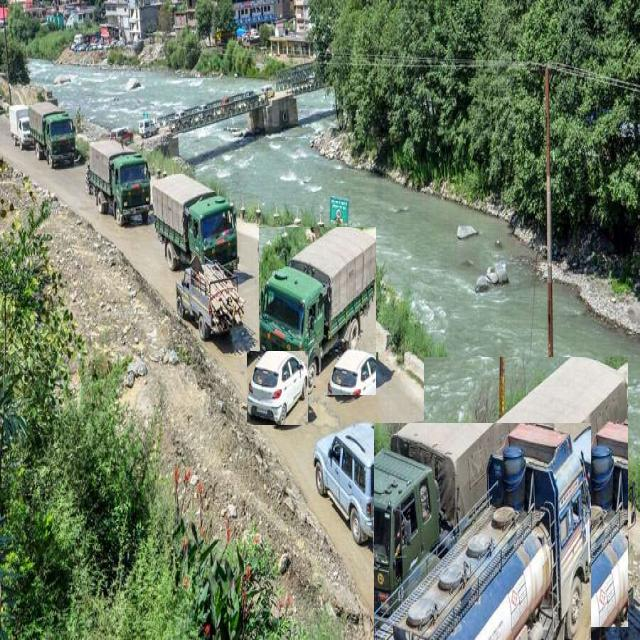car: (314, 423, 390, 542), (248, 351, 308, 425)
truck: (425, 358, 628, 627), (374, 423, 591, 640), (259, 227, 376, 395), (151, 173, 239, 270), (86, 142, 150, 225), (30, 104, 75, 166)
